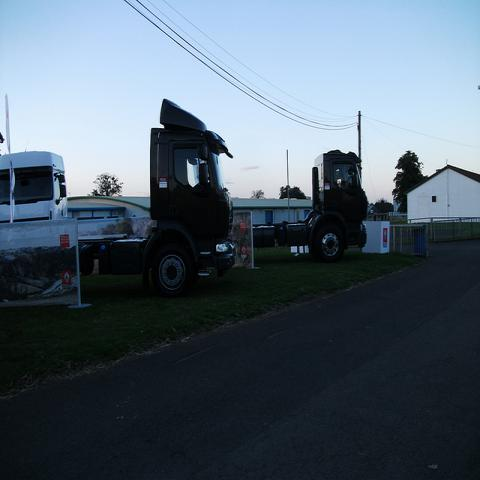truck: (78, 98, 238, 297), (230, 151, 370, 262)
